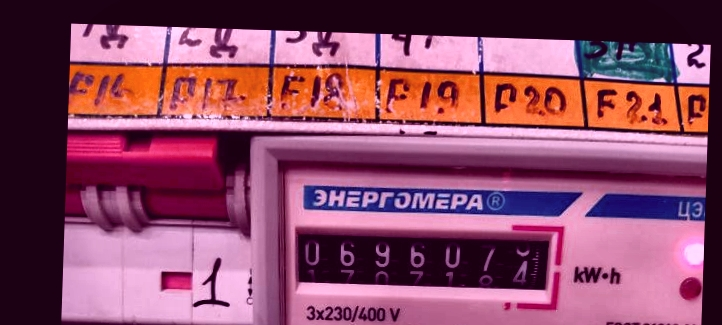0: (300, 236, 322, 267), (442, 240, 462, 269)
4: (509, 257, 529, 287)
6: (406, 239, 427, 270), (336, 237, 356, 267)
7: (477, 240, 496, 271)
9: (371, 238, 392, 268)
screen: (281, 209, 567, 311)
